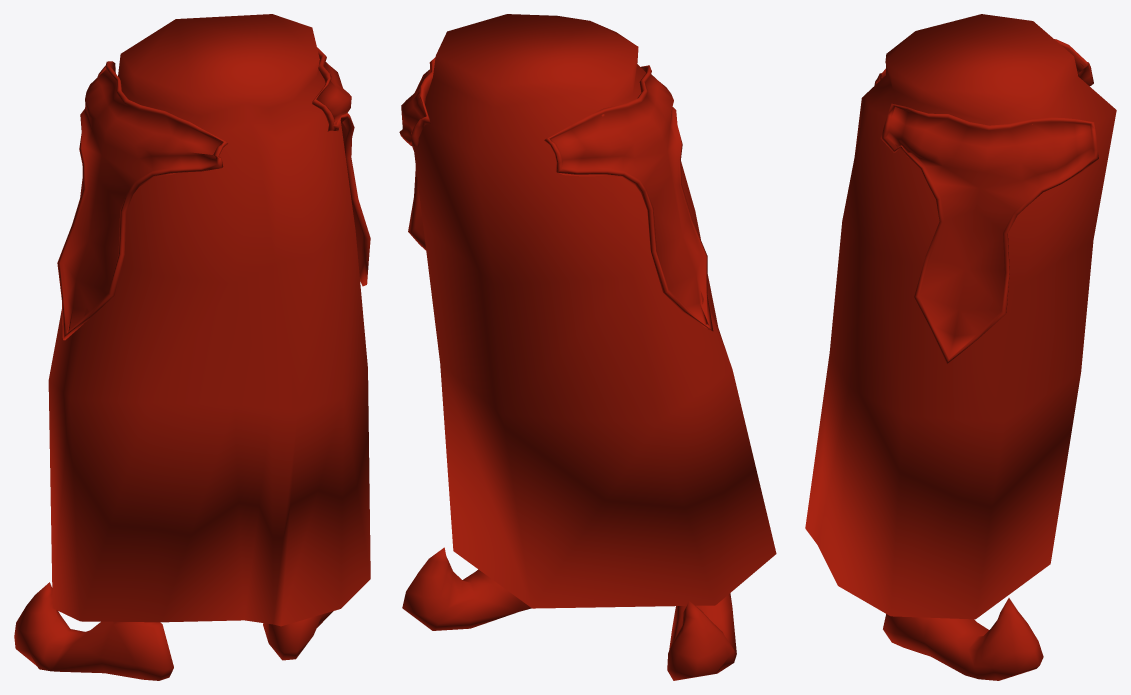
Rendered from bot_000057.obj.
3 views of the same model, side by side, from view 1: azimuth 30°, elevation 25°; view 2: azimuth 150°, elevation 25°; view 3: azimuth 270°, elevation 25° (orthographic).
Visible parts, largest first — view 1: LowPoly_Warlock.004_Plane.004; view 2: LowPoly_Warlock.004_Plane.004; view 3: LowPoly_Warlock.004_Plane.004.
Boxes of the visible parts, x1,y1,x2,y2 form: LowPoly_Warlock.004_Plane.004: (14, 14, 370, 680); LowPoly_Warlock.004_Plane.004: (399, 14, 776, 680); LowPoly_Warlock.004_Plane.004: (805, 14, 1116, 680).
Bounding box in the file's own units: 0.6279 × 1.1 × 0.5398.
